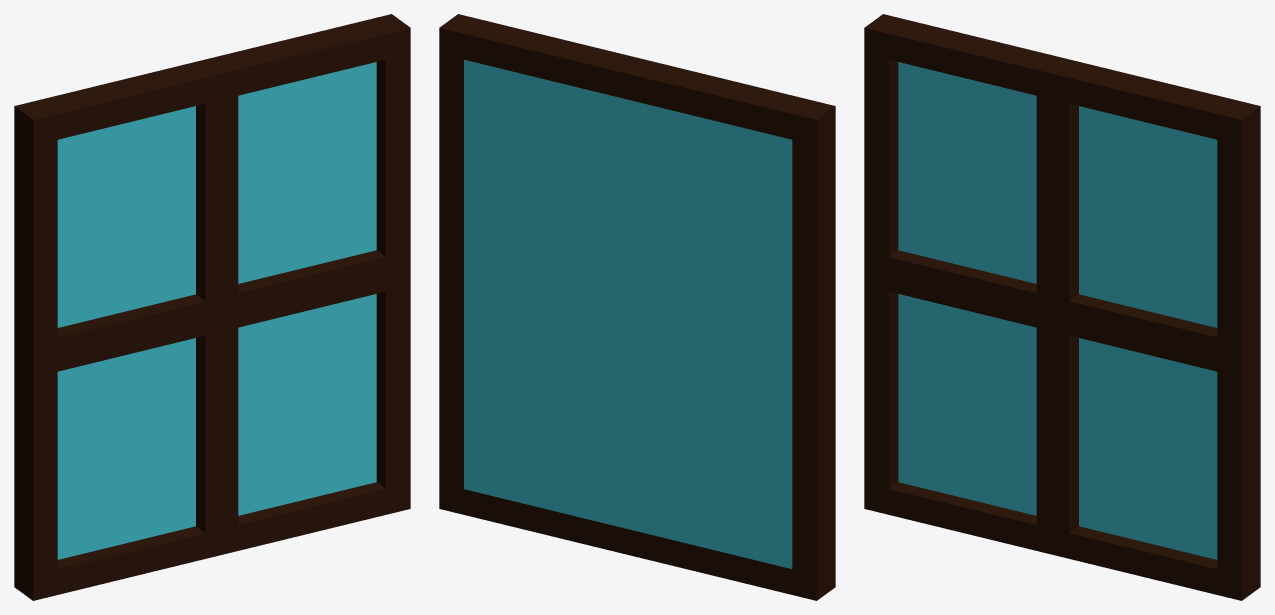
The model's file is ventana.fbx.
3 views of the same model, side by side, from view 1: azimuth 30°, elevation 25°; view 2: azimuth 150°, elevation 25°; view 3: azimuth 330°, elevation 25° (orthographic).
Visible parts, largest first — view 1: vidrio, madera; view 2: vidrio, madera; view 3: vidrio, madera.
Part boxes in pixels (bbox=[...]): vidrio: bbox=[57, 62, 376, 559]; madera: bbox=[14, 14, 410, 600]; vidrio: bbox=[464, 59, 792, 568]; madera: bbox=[439, 14, 835, 600]; vidrio: bbox=[898, 62, 1217, 559]; madera: bbox=[864, 14, 1260, 600].
Bounding box in the file's own units: 230 × 280 × 20.
